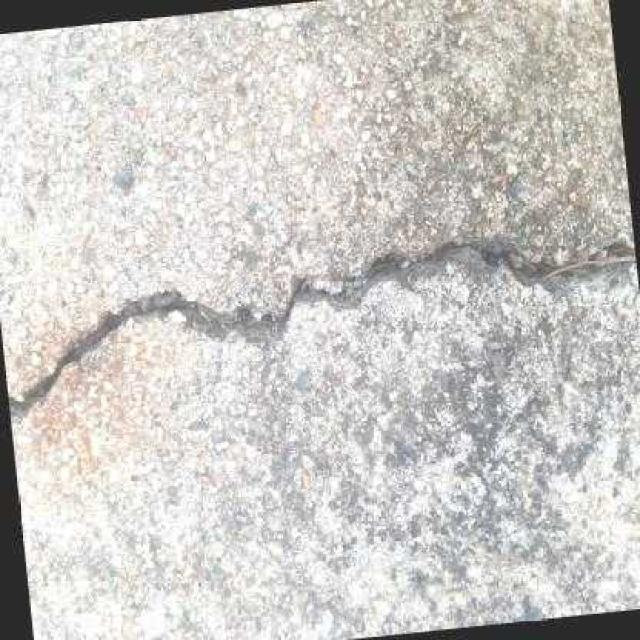D00: (6, 229, 636, 423)
